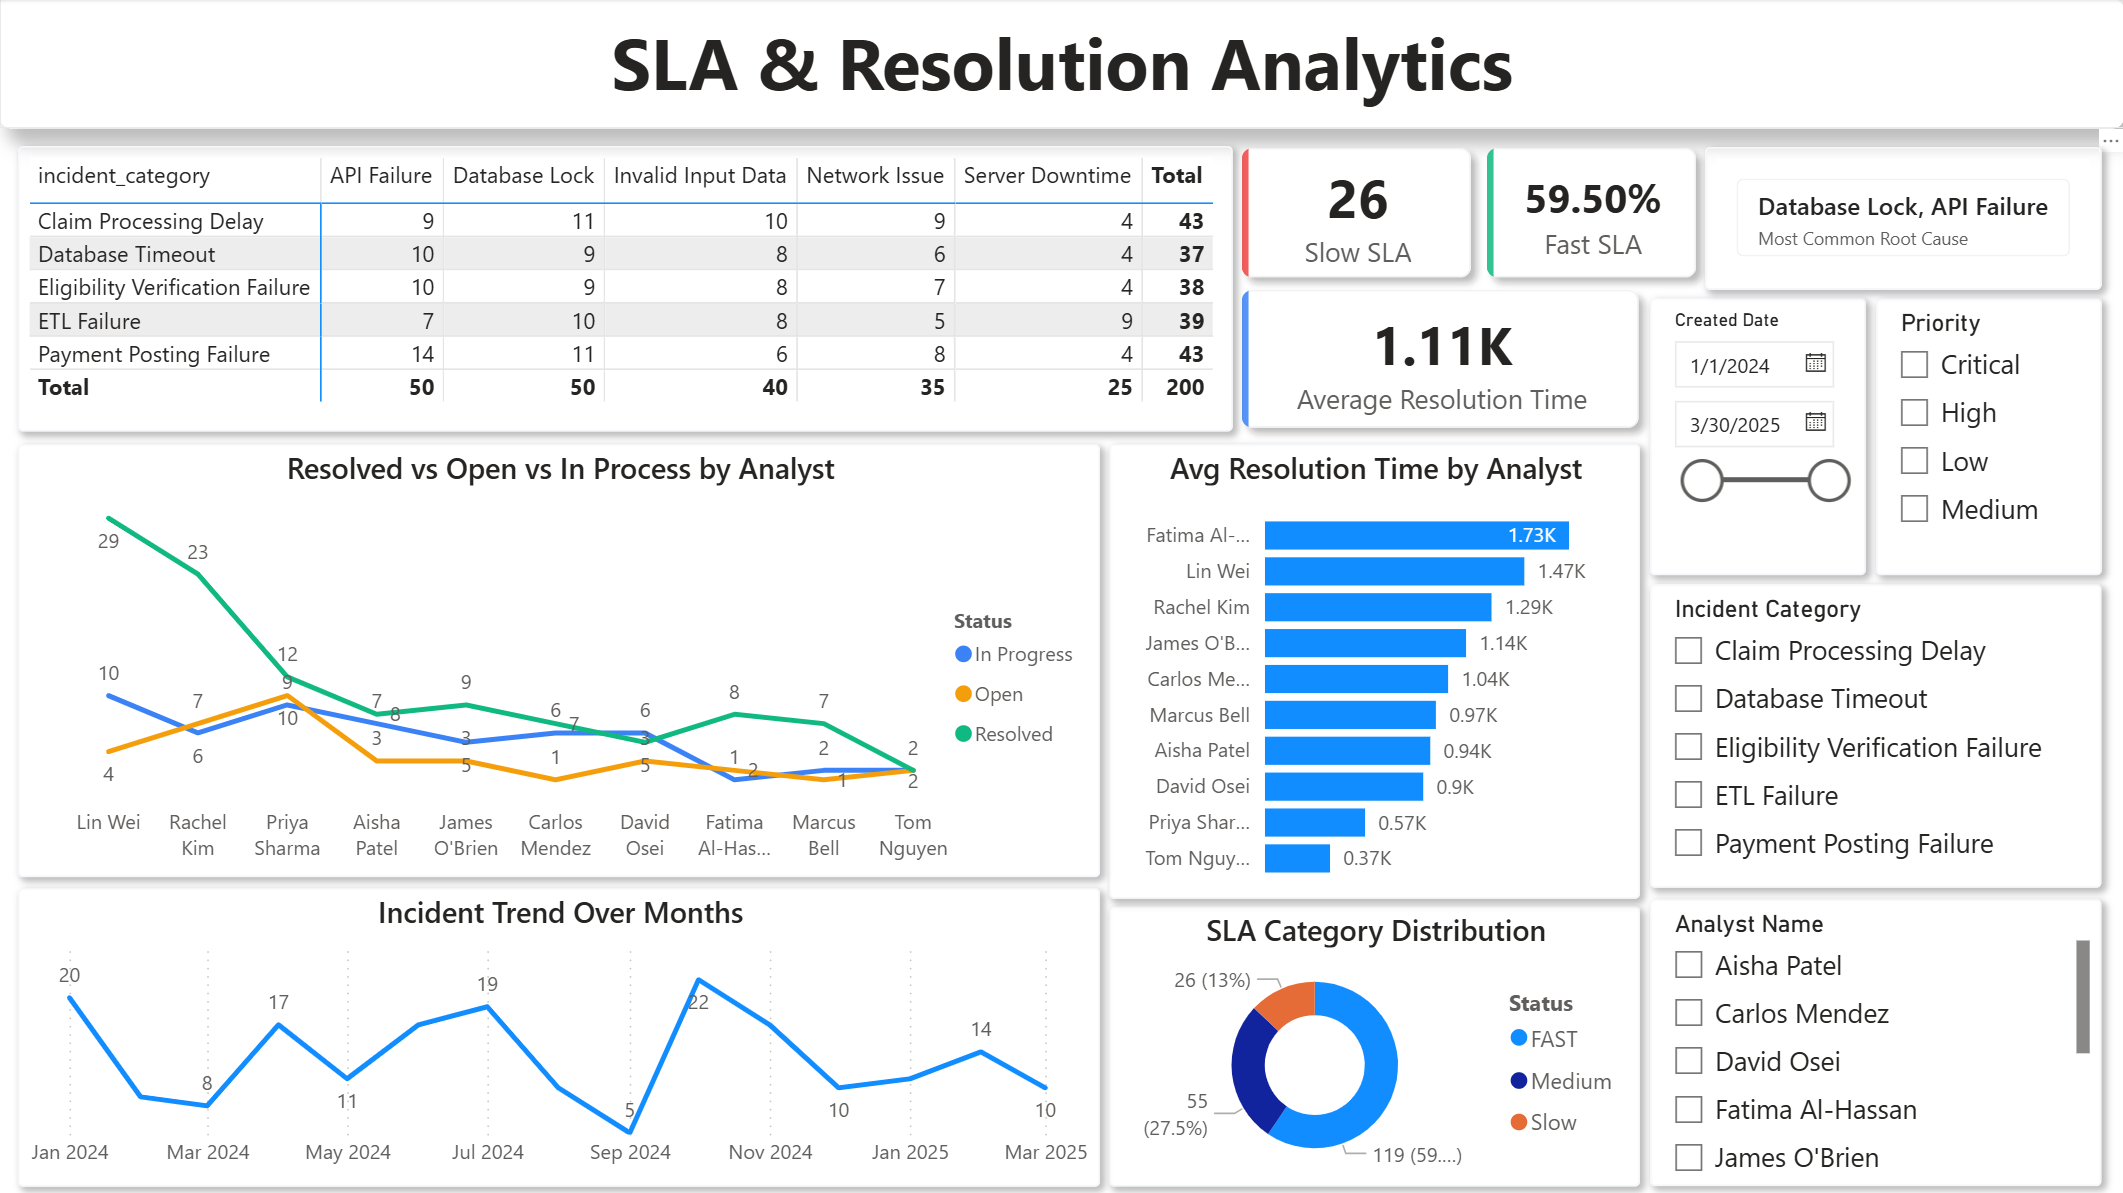

The page's visual inventory and layout, read from the dashboard file:
{"tool":"powerbi","page":{"name":"Page 2","canvas":[1280,720],"ordinal":1},"visuals":[{"type":"textbox","box":[0,0,1280,77.7],"z":0},{"type":"cardVisual","fields":{"Data":["analysts.Fast SLA %"]},"box":[884.1,77.7,150.1,102.4],"z":1000},{"type":"cardVisual","fields":{"Data":["analysts.Average Resolution Time"]},"box":[736.4,163.3,263.4,107.9],"z":2000},{"type":"cardVisual","fields":{"Data":["analysts.Slow SLA"]},"box":[736.4,77.7,162.1,102.4],"z":3000},{"type":"donutChart","title":"SLA Category Distribution","fields":{"Y":["CountNonNull(incidents.SLA Category)"],"Series":["incidents.SLA Category"]},"box":[668.3,546.6,320,168.7],"z":4000},{"type":"barChart","title":"Avg Resolution Time by Analyst","fields":{"Category":["analysts.analyst_name"],"Y":["analysts.Average Resolution Time"]},"box":[668.3,268.2,320,274.2],"z":5000},{"type":"lineChart","title":"Incident Trend Over Months","fields":{"Category":["incidents.created_date.Variation.Date Hierarchy.Year","incidents.created_date.Variation.Date Hierarchy.Month"],"Y":["Count(incidents.incident_id)"]},"box":[10.8,535.7,652.1,179.6],"z":6000},{"type":"lineChart","title":"Resolved vs Open vs In Process by Analyst","fields":{"Category":["analysts.analyst_name"],"Y":["CountNonNull(incidents.status)"],"Series":["incidents.status"]},"box":[10.8,268.2,652.1,260.9],"z":7000},{"type":"pivotTable","title":"Root Cause by Incident Category","fields":{"Columns":["incidents.root_cause"],"Rows":["incidents.incident_category"],"Values":["CountNonNull(incidents.incident_id)"]},"box":[10.8,88.6,731.6,171.8],"z":8000},{"type":"slicer","fields":{"Values":["incidents.created_date"]},"box":[994.4,180.2,130.2,166.9],"z":9000},{"type":"slicer","fields":{"Values":["analysts.analyst_name"]},"box":[994.4,542.4,271.8,173],"z":10000},{"type":"slicer","fields":{"Values":["incidents.incident_category"]},"box":[994.4,352.5,271.8,183.2],"z":11000},{"type":"slicer","fields":{"Values":["incidents.priority"]},"box":[1130.5,180.2,136.2,166.9],"z":12000},{"type":"cardVisual","fields":{"Data":["analysts.Most Common Root Cause"]},"box":[1027.5,89.2,239.2,85.6],"z":13000}]}

Visuals, with their boxes in screenshot pixels (x1, y1, x2, y2), scaled from the page's 1280x720 canvas onto the 2123x1193 screenshot:
textbox: 0:0:2122:129
cardVisual - analysts.Fast SLA %: 1466:129:1715:298
cardVisual - analysts.Average Resolution Time: 1221:271:1658:449
cardVisual - analysts.Slow SLA: 1221:129:1490:298
"SLA Category Distribution" donutChart: 1108:906:1639:1185
"Avg Resolution Time by Analyst" barChart: 1108:444:1639:899
"Incident Trend Over Months" lineChart: 18:888:1099:1185
"Resolved vs Open vs In Process by Analyst" lineChart: 18:444:1099:877
"Root Cause by Incident Category" pivotTable: 18:147:1231:431
slicer - incidents.created_date: 1649:299:1865:575
slicer - analysts.analyst_name: 1649:899:2100:1185
slicer - incidents.incident_category: 1649:584:2100:888
slicer - incidents.priority: 1875:299:2101:575
cardVisual - analysts.Most Common Root Cause: 1704:148:2101:290
